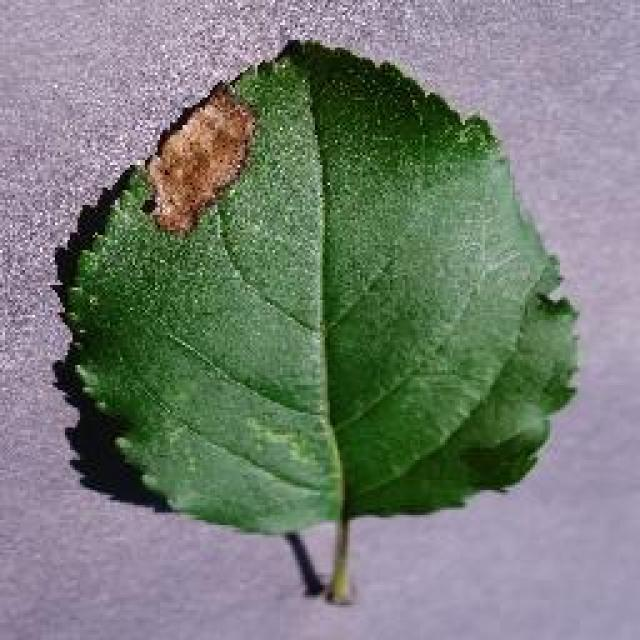Black_rot: (50, 35, 580, 603)
